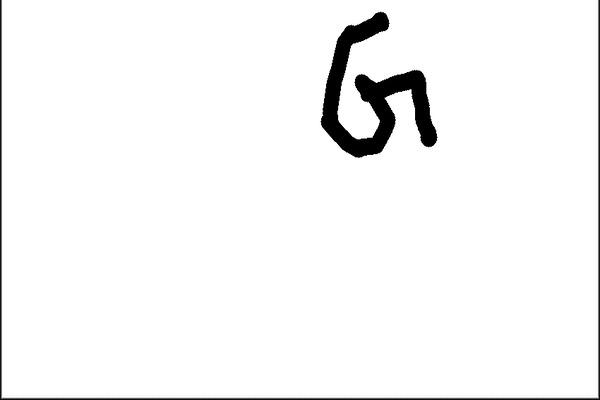G: (316, 7, 442, 159)
